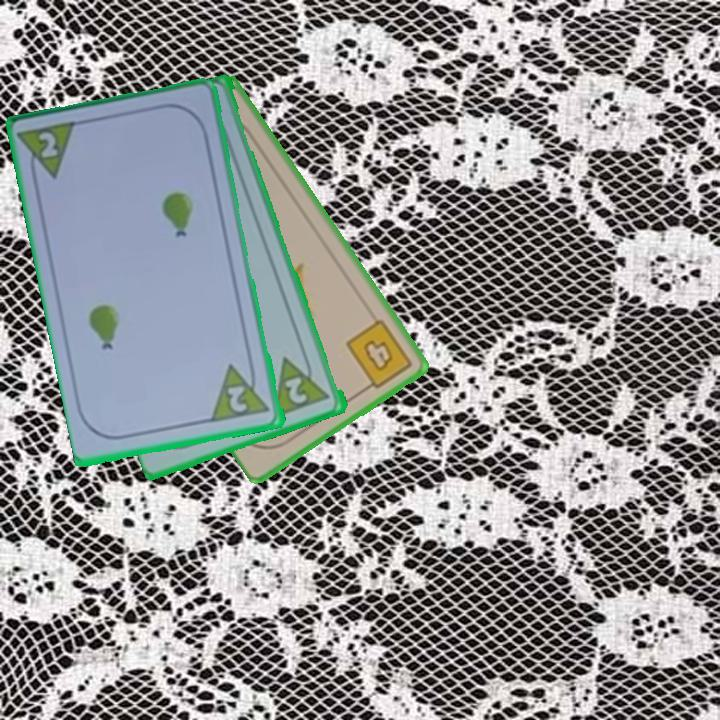2p: (270, 348, 334, 420), (17, 117, 82, 187), (209, 358, 274, 426)
4b: (342, 315, 416, 396)
